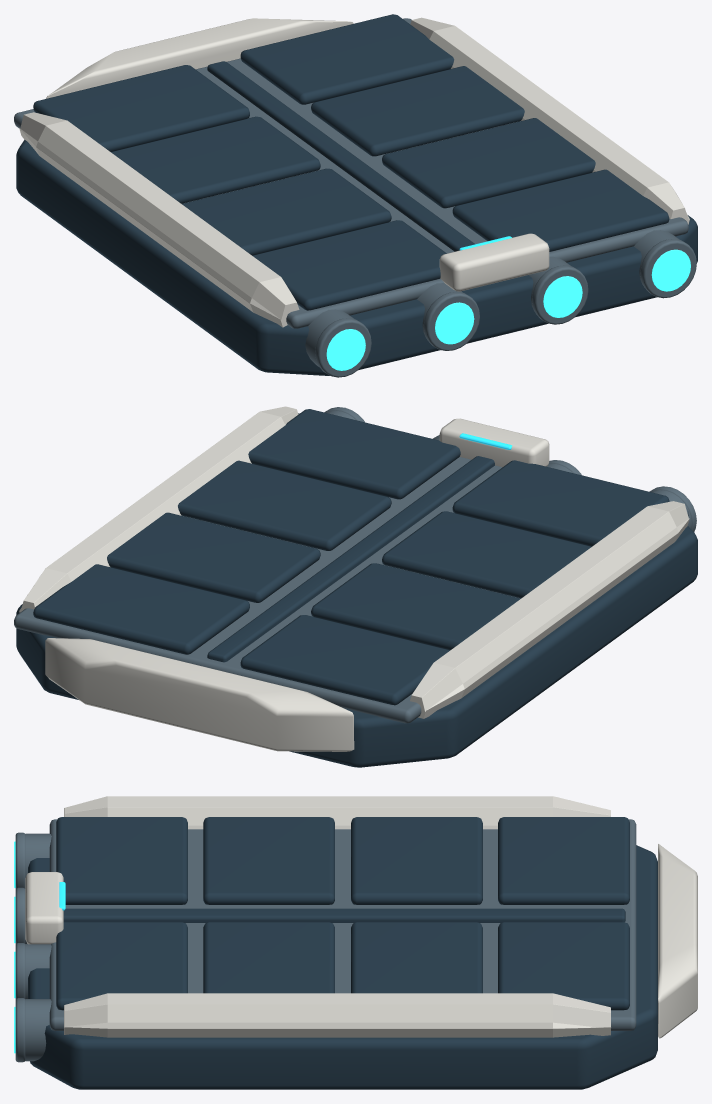
Rendered from player_hull.glb.
The picture shows the model from 3 angles, top to bottom: view 1: azimuth 30°, elevation 25°; view 2: azimuth 150°, elevation 25°; view 3: azimuth 270°, elevation 25°; orthographic projection. The views are drawn at different scales.
Visible parts, largest first — view 1: HullArmor, Engine01Mesh, Engine04Mesh, Engine02Mesh, Engine03Mesh; view 2: HullArmor, Engine01Mesh; view 3: HullArmor, Engine04Mesh, Engine03Mesh, Engine01Mesh, Engine02Mesh.
Part boxes in pixels (x1=…): HullArmor: x1=14, y1=14, x2=697, y2=375; Engine01Mesh: x1=305, y1=309, x2=371, y2=377; Engine04Mesh: x1=634, y1=230, x2=696, y2=298; Engine02Mesh: x1=417, y1=283, x2=479, y2=350; Engine03Mesh: x1=528, y1=256, x2=588, y2=324; HullArmor: x1=14, y1=406, x2=697, y2=767; Engine01Mesh: x1=649, y1=486, x2=696, y2=531; HullArmor: x1=25, y1=796, x2=697, y2=1089; Engine04Mesh: x1=14, y1=998, x2=51, y2=1062; Engine03Mesh: x1=14, y1=943, x2=51, y2=999; Engine01Mesh: x1=14, y1=832, x2=51, y2=889; Engine02Mesh: x1=14, y1=887, x2=27, y2=944.
Size of the model in its own units: 7.3 by 1.34 by 9.44.
